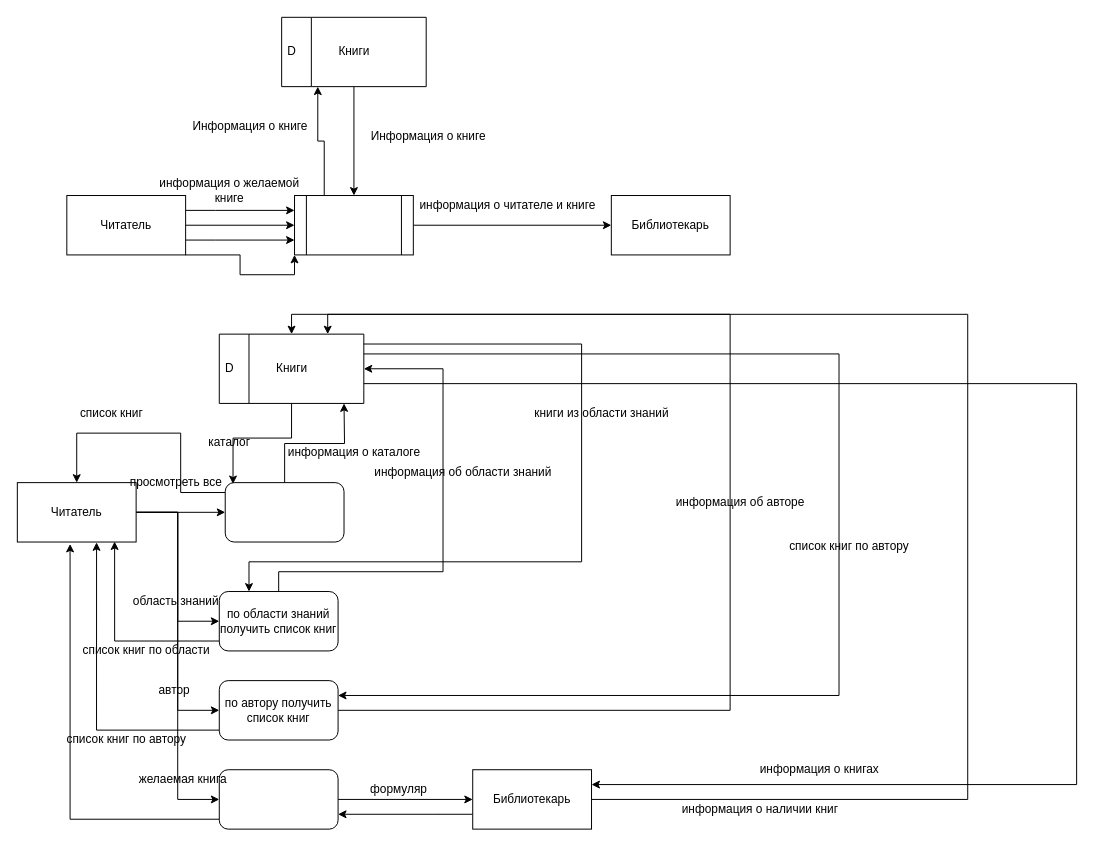
The diagram is 1102 pixels wide and 846 high, and some of its shapes have lost their labels. Each missing label, with the centre of its shape:
"деятельность читателя" belongs at pixel 353 225.
"просмотр системного каталога" belongs at pixel 284 512.
"сделать заказ на выдачу книг" belongs at pixel 278 799.
